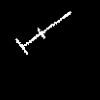double_crochet: (16, 12, 70, 53)
